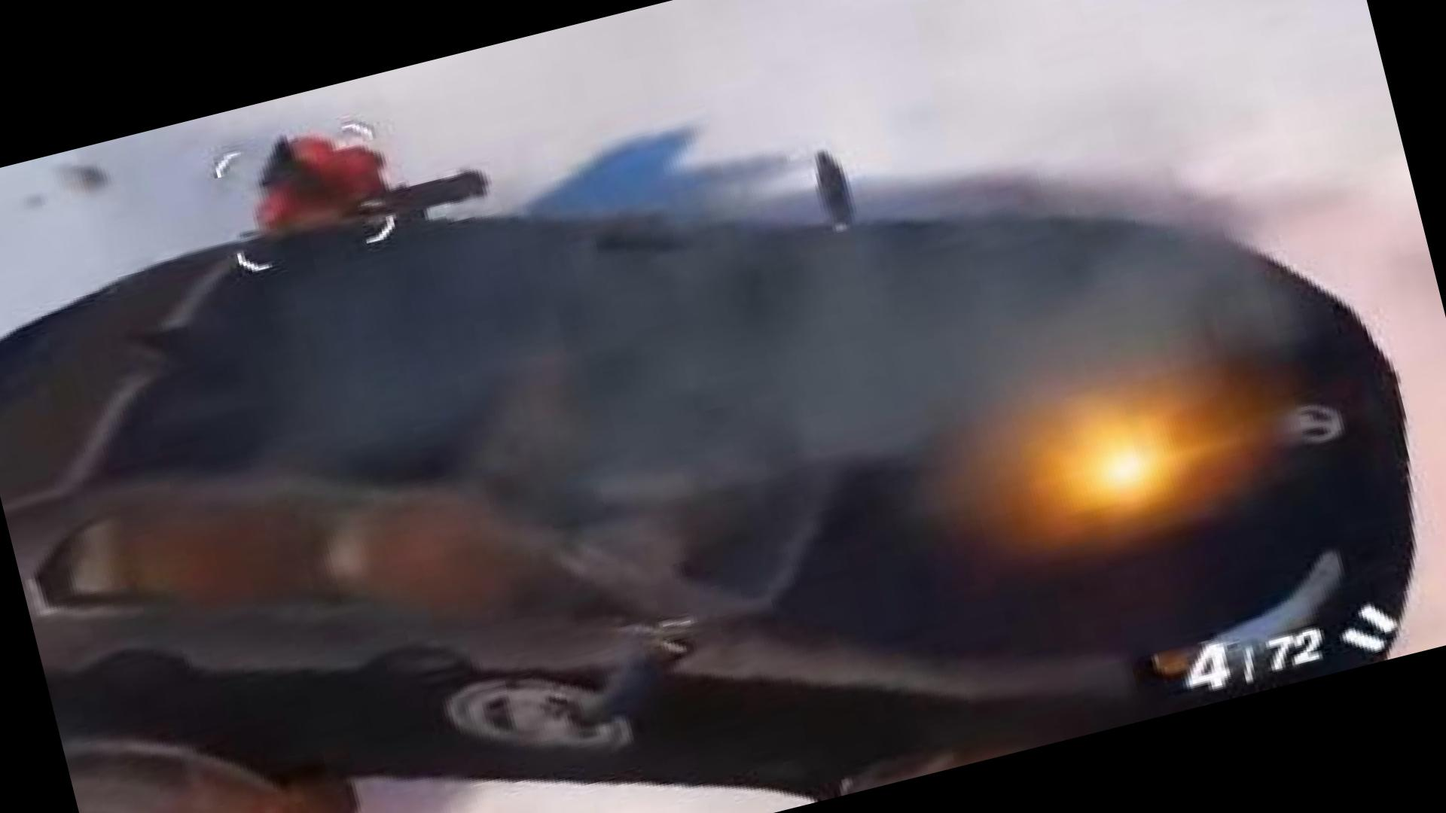player: (164, 94, 447, 291)
